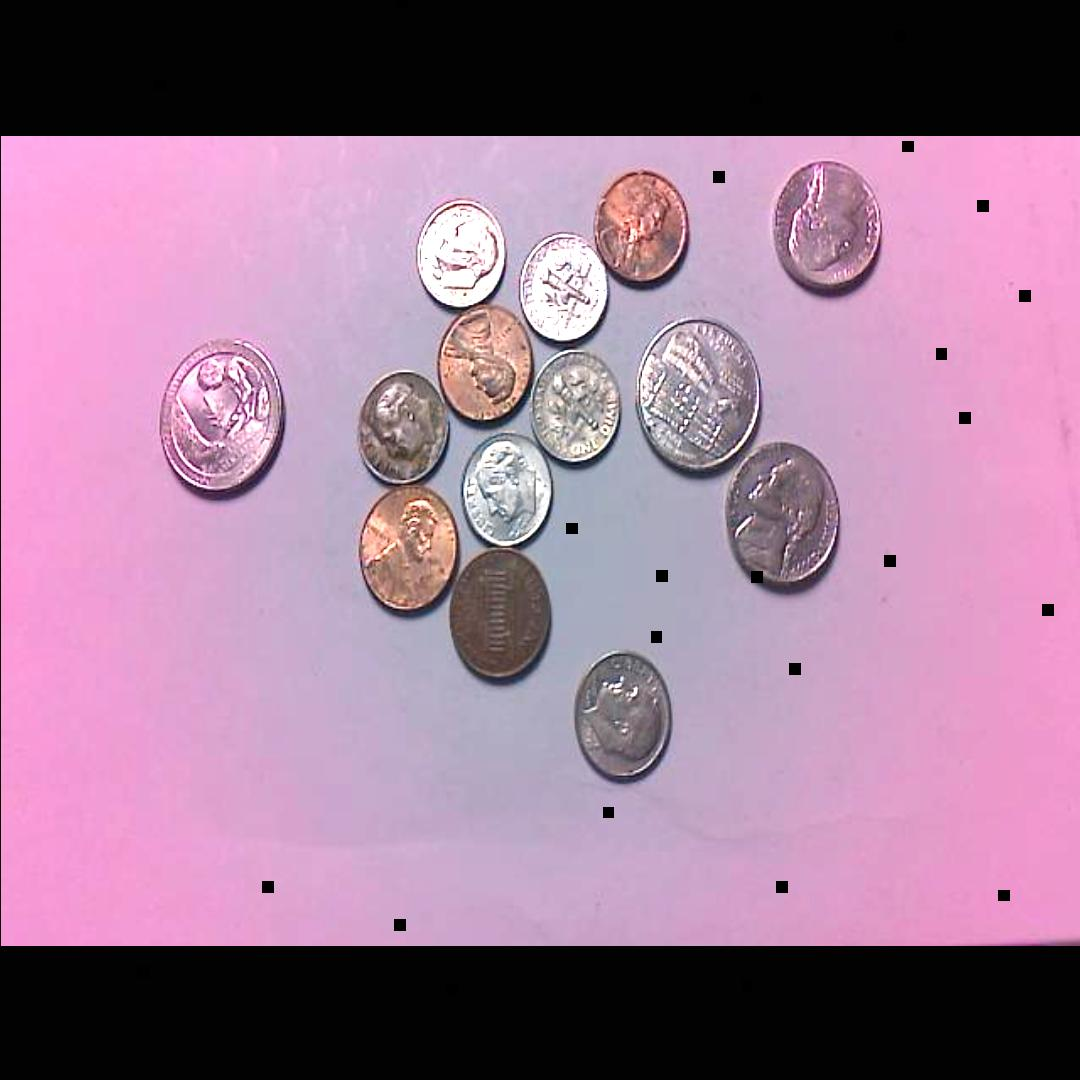Dime: (570, 646, 675, 783), (354, 368, 449, 484), (413, 194, 508, 309), (532, 344, 619, 466), (515, 231, 608, 341), (461, 437, 550, 545)
Nickel: (724, 440, 839, 579), (771, 159, 879, 287)
Penny: (449, 547, 547, 672), (358, 484, 454, 606), (591, 167, 690, 285), (437, 305, 528, 418)
Quarter: (160, 339, 282, 488), (634, 317, 756, 466)
